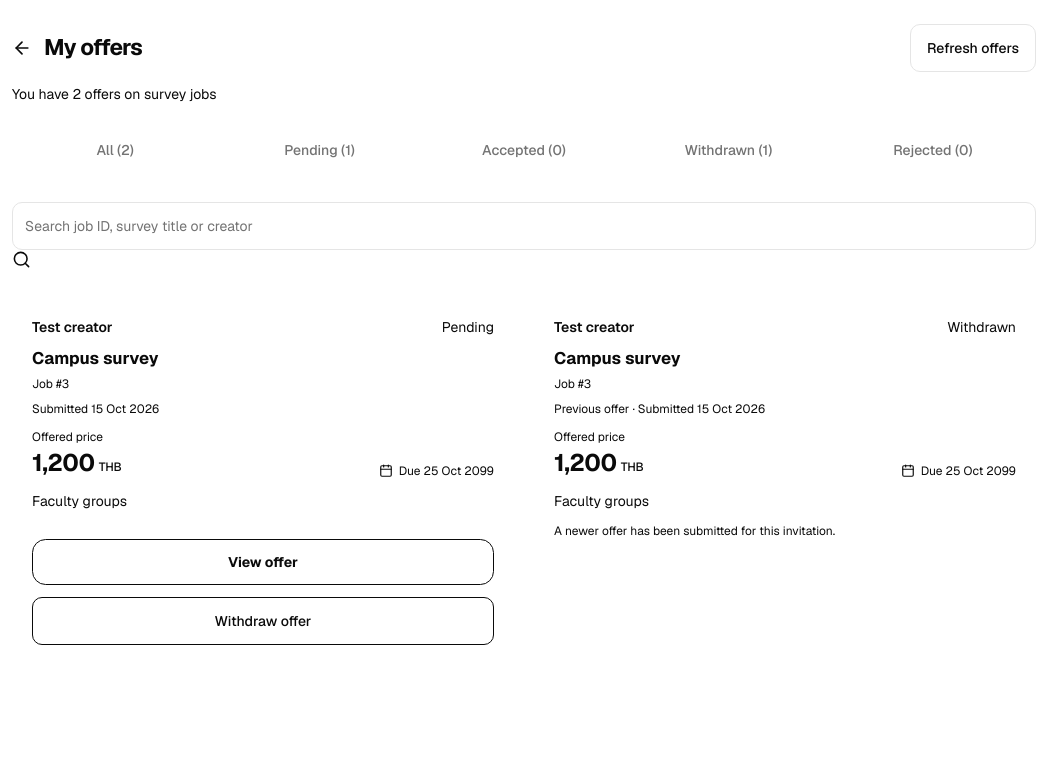
Test: MyOffersPage › filters statuses while preserving history and only permits the current offer to be resubmitted
Click the tab "Withdrawn (1)" at (728, 150), box [628,128,829,172]
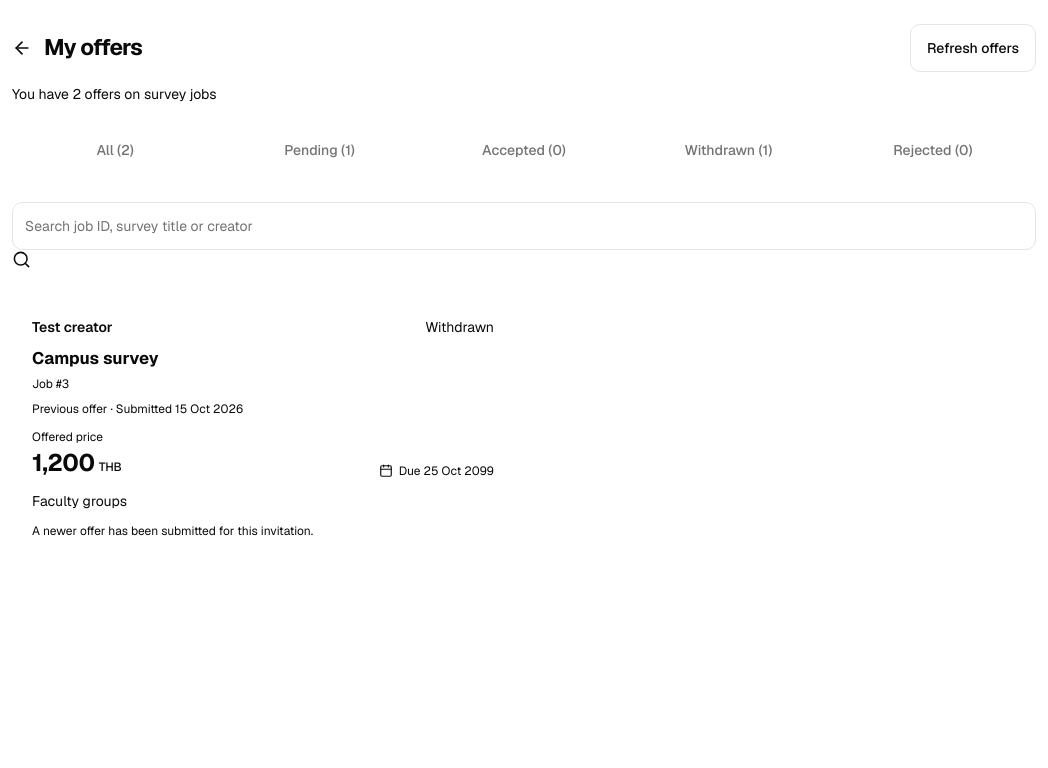
Expected: the element with test id "my-offer-card-200" is shown, [12,297,514,559]
Result: the element with test id "my-offer-card-201" is gone
Click the tab "Accepted (0)" at (524, 150), box [424,128,624,172]
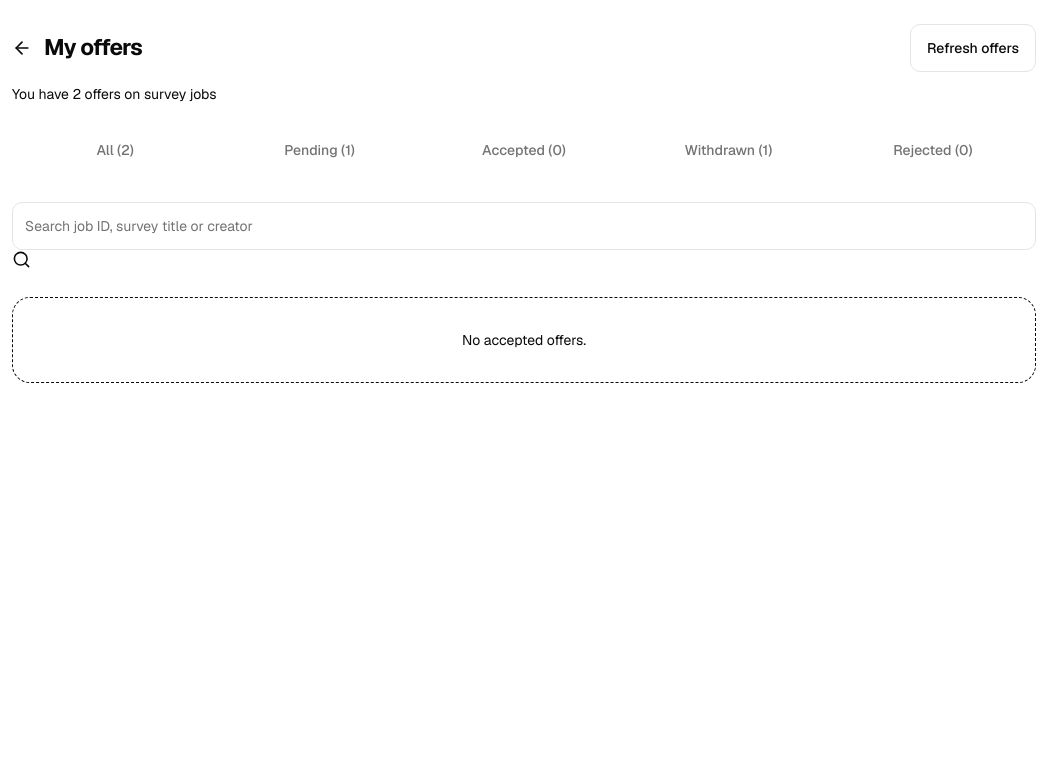
Result: the text "No accepted offers." is shown at [462,331,586,349]
